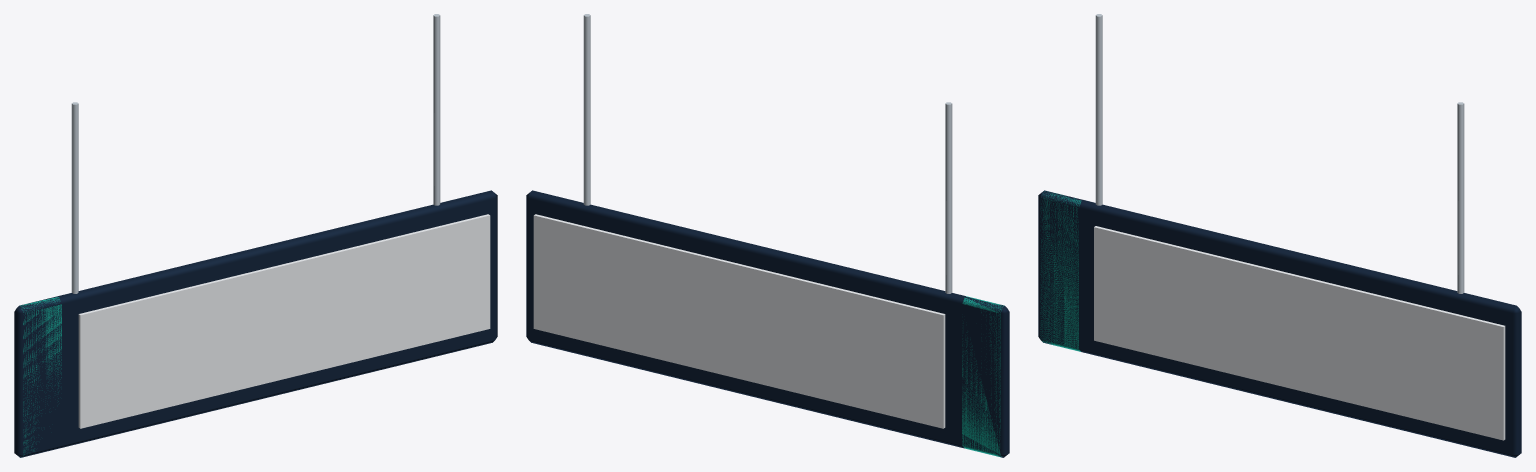
The model's file is CM_Interior_AisleSign.fbx.
The picture shows the model from 3 angles, left to right: view 1: azimuth 30°, elevation 25°; view 2: azimuth 150°, elevation 25°; view 3: azimuth 330°, elevation 25°; orthographic projection.
Visible parts, largest first — view 1: Face, Body, Rods; view 2: Face, Body, Rods; view 3: Face, Body, Rods.
Part boxes in pixels (<box>): Face: <box>78,214,490,428</box>; Body: <box>14,190,497,457</box>; Rods: <box>71,14,440,293</box>; Face: <box>533,214,945,428</box>; Body: <box>526,190,1009,457</box>; Rods: <box>583,14,952,293</box>; Face: <box>1094,226,1505,440</box>; Body: <box>1038,190,1521,457</box>; Rods: <box>1095,14,1464,293</box>.
Size of the model in its own units: 8 by 0.3 by 5.4.
Materials: 1 (1 with a texture image).
